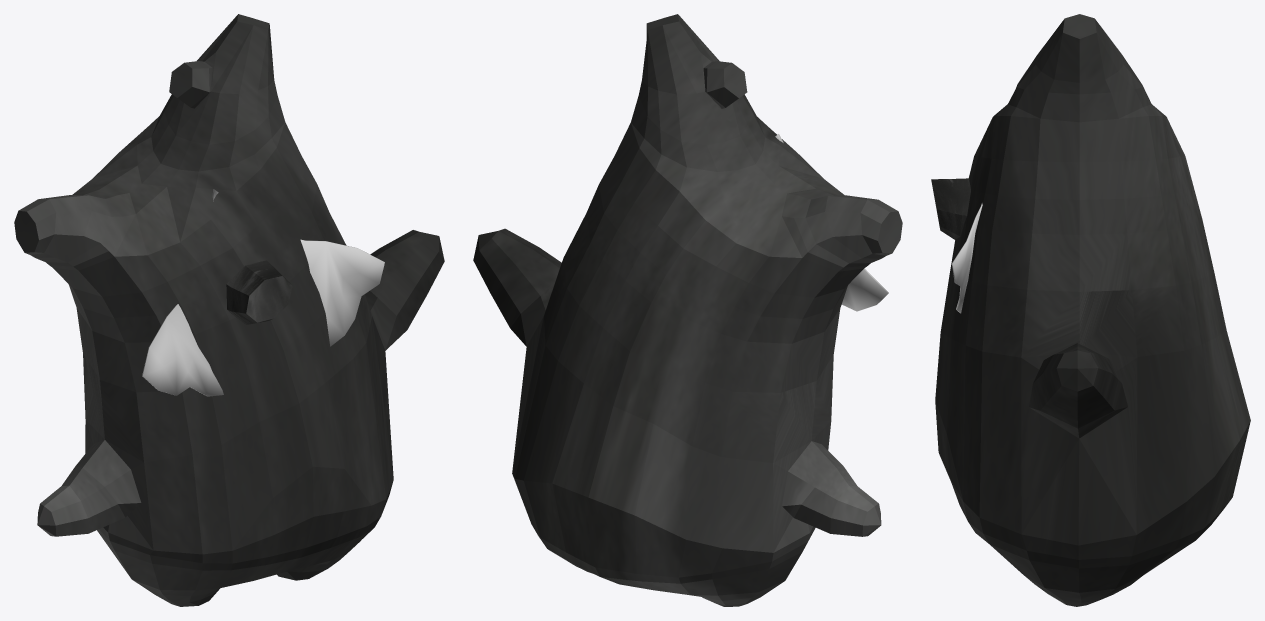
Rendered from frame_0014.obj.
3 renders of one model, left to right at view 1: azimuth 30°, elevation 25°; view 2: azimuth 150°, elevation 25°; view 3: azimuth 270°, elevation 25°, orthographic. The views are drawn at different scales.
Visible parts, largest first — view 1: korok, leaf, nose; view 2: korok, leaf; view 3: korok, nose, leaf.
Boxes of the visible parts, <box> form: korok: <box>14,14,444,606</box>; leaf: <box>142,189,384,396</box>; nose: <box>226,260,292,324</box>; korok: <box>473,14,902,606</box>; leaf: <box>775,134,888,311</box>; korok: <box>935,14,1250,606</box>; nose: <box>931,178,970,239</box>; leaf: <box>951,203,982,313</box>.
Bounding box in the file's own units: 1.74 × 2.29 × 1.18.
